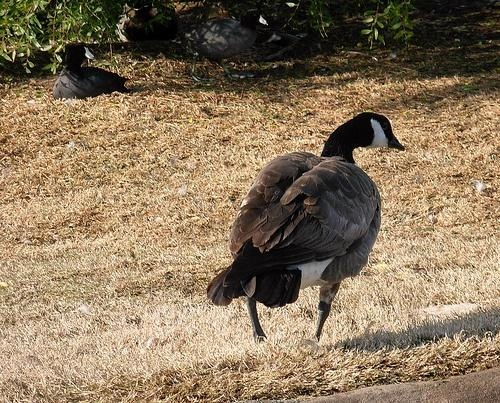bird: (204, 112, 406, 340), (175, 11, 272, 81), (53, 43, 131, 102)
